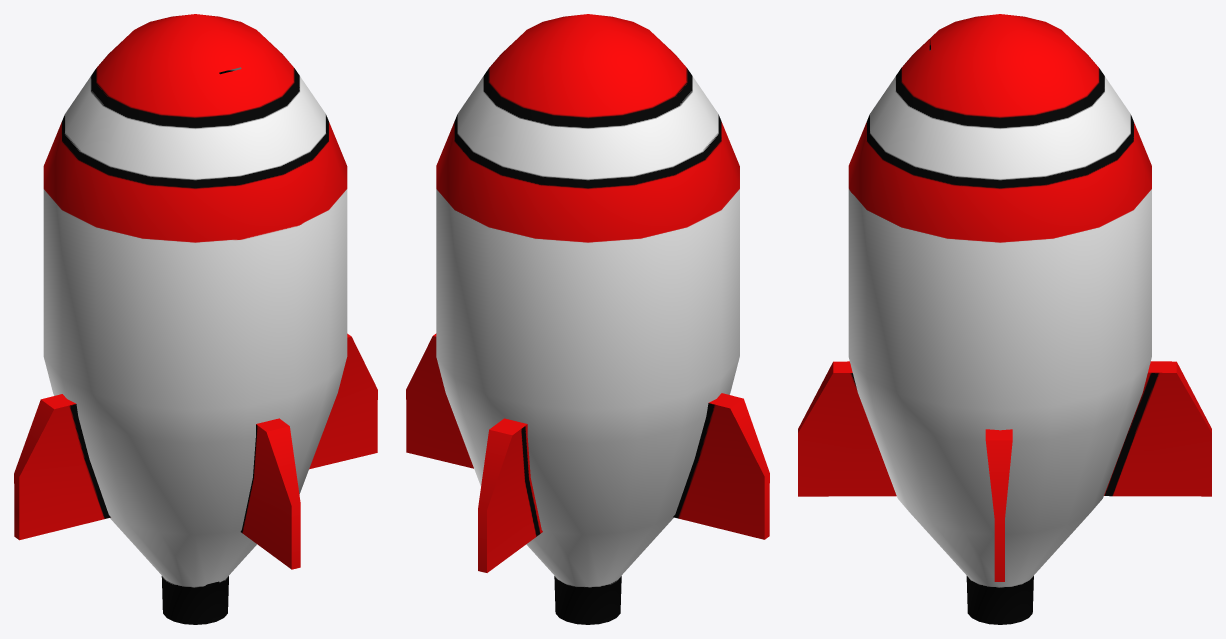
The model's file is Dog_daodan.FBX.
3 renders of one model, left to right at view 1: azimuth 30°, elevation 25°; view 2: azimuth 150°, elevation 25°; view 3: azimuth 270°, elevation 25°, orthographic.
Parts seen in each view (by area): view 1: daoadn, yi002, yi004, yi; view 2: daoadn, yi002, yi003, yi; view 3: daoadn, yi003, yi004, yi.
Boxes of the visible parts, <box> form: daoadn: <box>43,14,347,624</box>; yi002: <box>14,394,110,540</box>; yi004: <box>240,418,300,569</box>; yi: <box>309,333,377,469</box>; daoadn: <box>436,14,739,624</box>; yi002: <box>673,393,769,539</box>; yi003: <box>478,418,542,572</box>; yi: <box>406,333,473,468</box>; daoadn: <box>848,14,1151,624</box>; yi003: <box>1104,361,1211,496</box>; yi004: <box>798,361,896,496</box>; yi: <box>985,429,1012,581</box>.
Size of the model in its own units: 99.07 by 158 by 99.07.
1 material, 1 textured.
